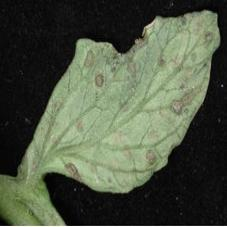Bacterial Spot: (23, 8, 220, 192)
